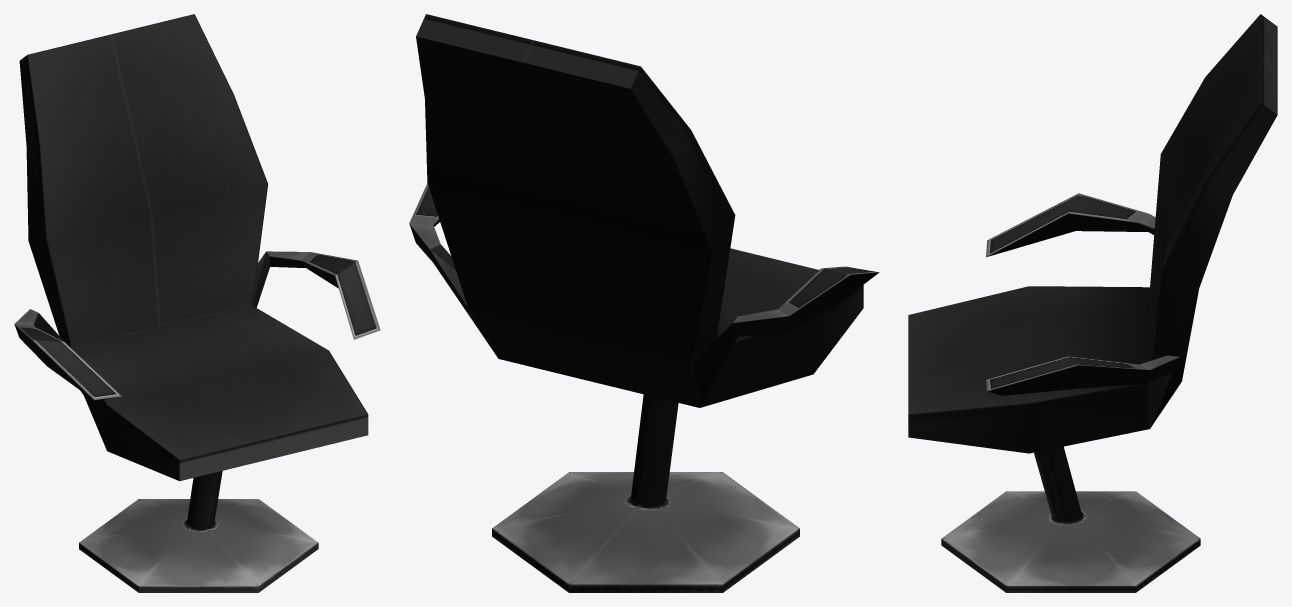
File: officeprop_chair.FBX
3 renders of one model, left to right at view 1: azimuth 30°, elevation 25°; view 2: azimuth 150°, elevation 25°; view 3: azimuth 270°, elevation 25°, orthographic. The views are drawn at different scales.
Visible parts, largest first — view 1: officeprop_chair; view 2: officeprop_chair; view 3: officeprop_chair.
Part boxes in pixels (bbox=[...]): officeprop_chair: bbox=[14, 14, 380, 592]; officeprop_chair: bbox=[409, 14, 879, 592]; officeprop_chair: bbox=[908, 14, 1277, 592].
Size of the model in its own units: 94.11 by 124 by 85.37.
